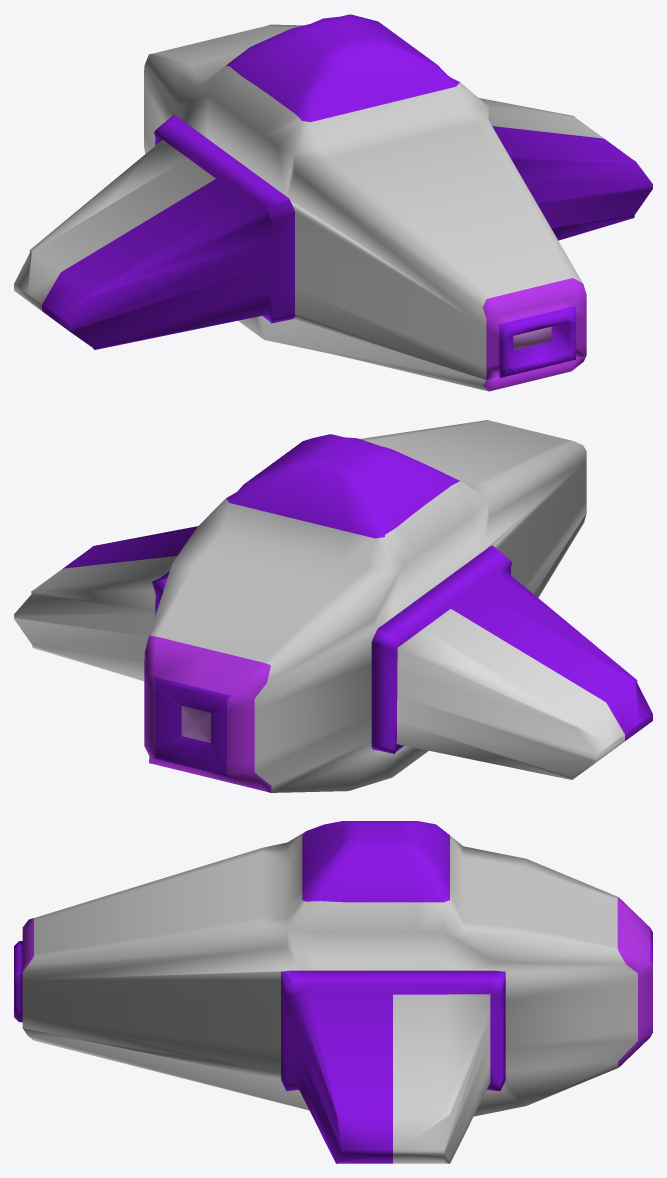
The model's file is navebueno.glb.
The picture shows the model from 3 angles, top to bottom: view 1: azimuth 30°, elevation 25°; view 2: azimuth 150°, elevation 25°; view 3: azimuth 270°, elevation 25°; orthographic projection. The views are drawn at different scales.
Parts seen in each view (by area): view 1: Cube; view 2: Cube; view 3: Cube.
Boxes of the visible parts, box(x1,y1,x2,y2) form: Cube: box(14, 14, 652, 391); Cube: box(14, 420, 652, 792); Cube: box(14, 821, 652, 1163).
Bounding box in the file's own units: 5.99 × 2.65 × 6.23.
